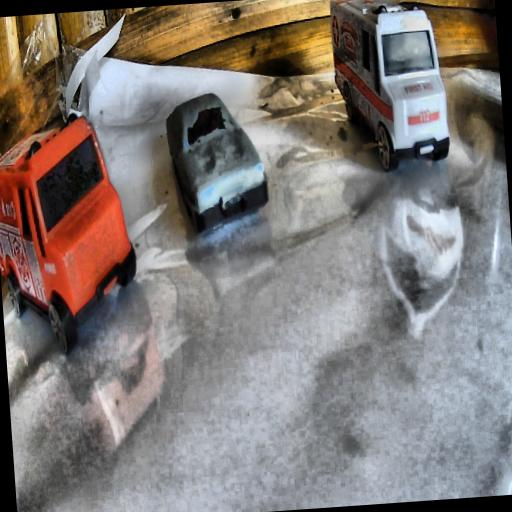ambulance: (328, 0, 452, 173)
fire_truck: (0, 108, 143, 357)
normal_car: (163, 88, 271, 238)
